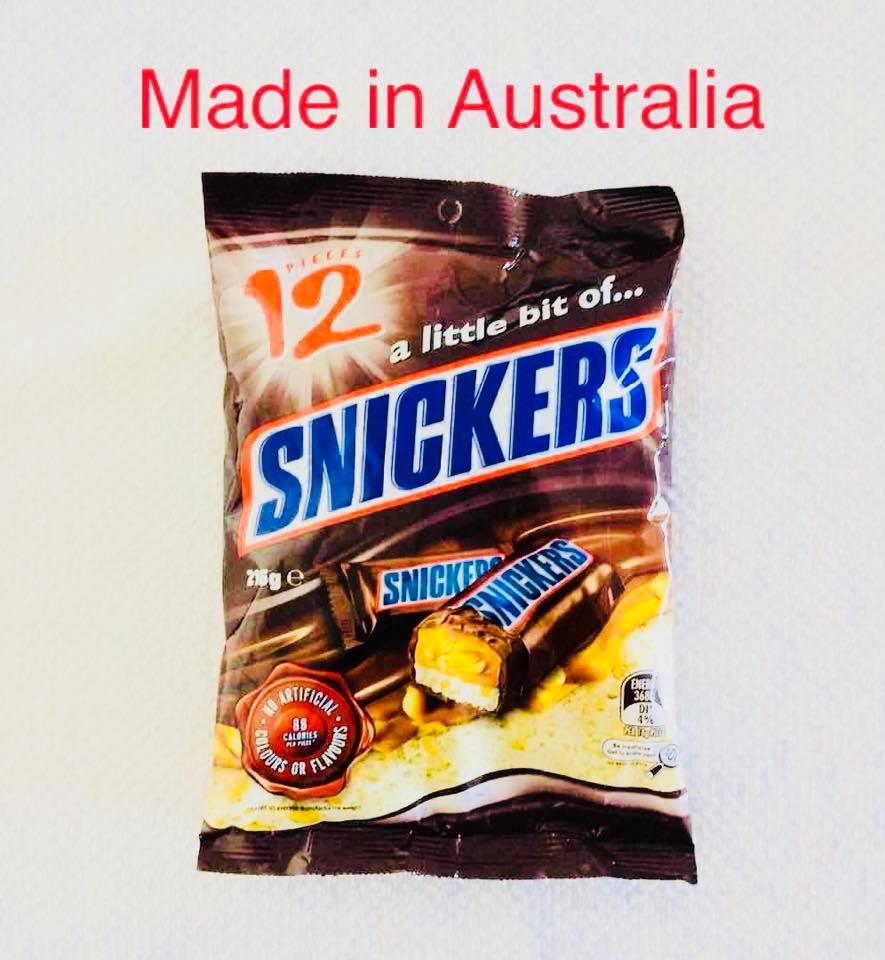snickers: (249, 321, 658, 538), (472, 536, 588, 637), (380, 553, 497, 609)
